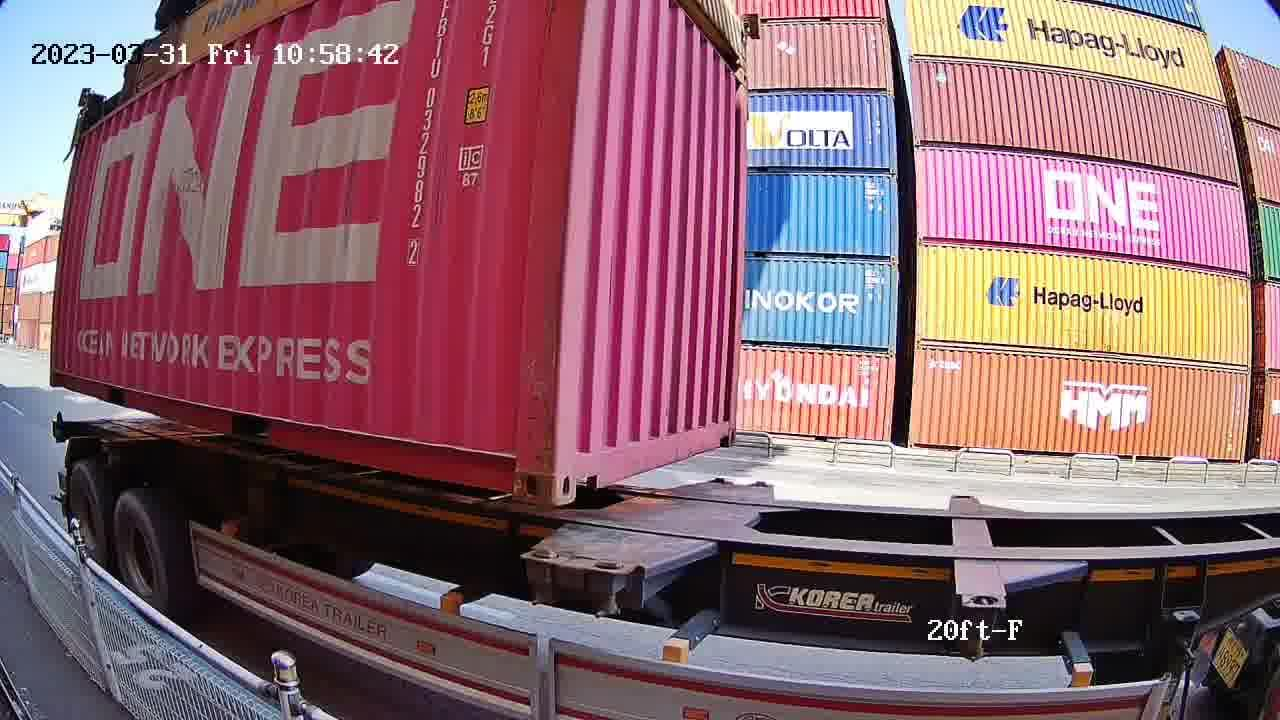Chassis: (527, 479, 732, 561), (592, 484, 770, 572)
Cone: (523, 545, 566, 608), (589, 558, 625, 624)
Hole_L: (554, 428, 612, 506)
Hole_R: (485, 432, 554, 510), (714, 407, 736, 449)
Tire: (110, 493, 176, 625), (66, 465, 107, 567)
